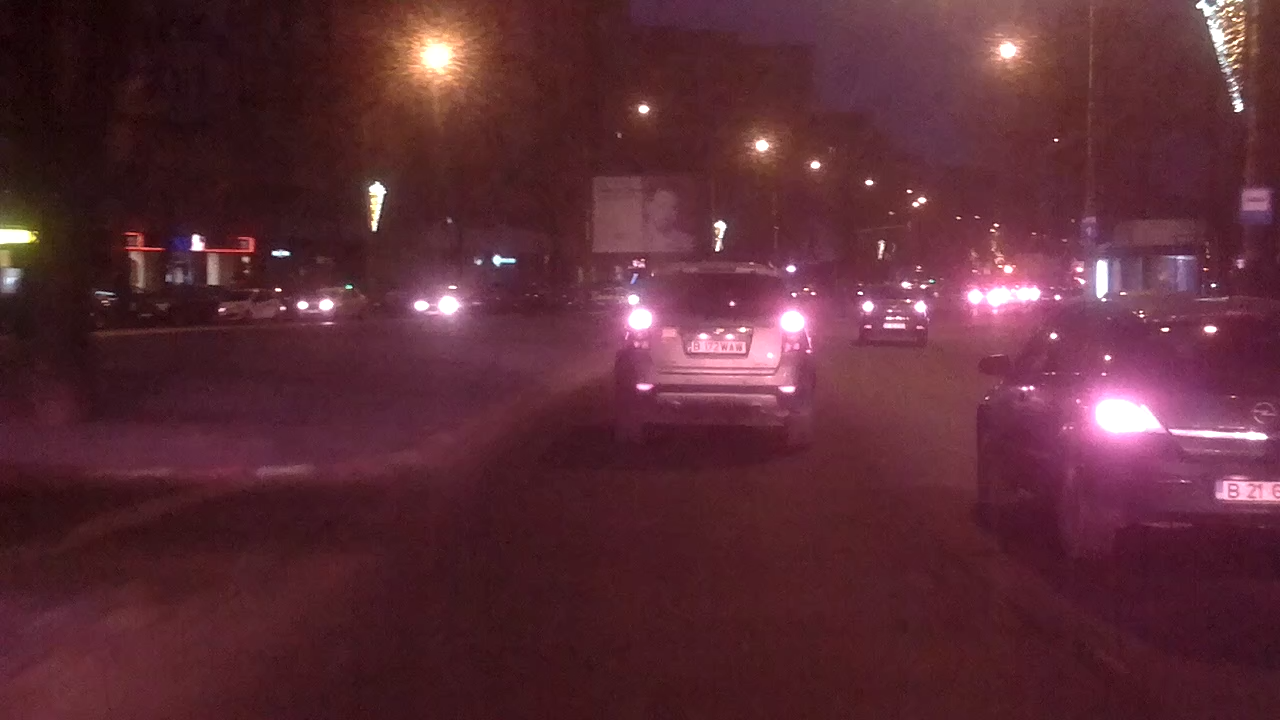license-plate: (684, 336, 749, 356)
